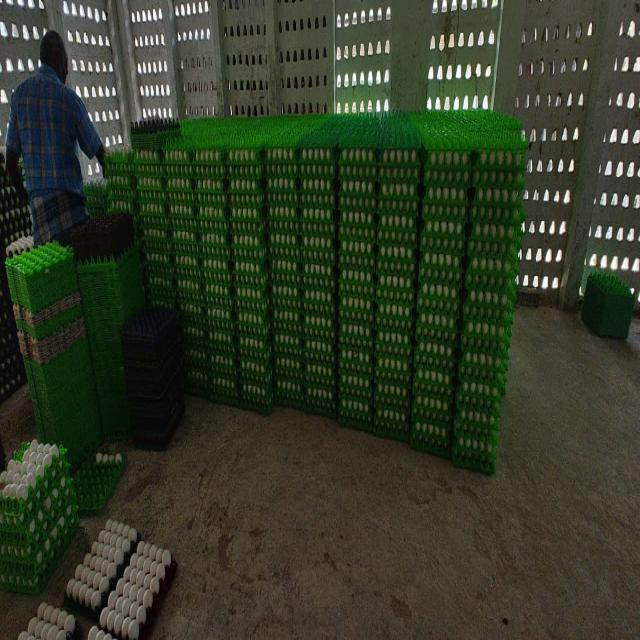egg_tray: (453, 172, 524, 472), (412, 152, 470, 454), (374, 150, 420, 440), (461, 172, 524, 361), (0, 440, 77, 591), (230, 150, 272, 411), (339, 148, 376, 429), (300, 148, 336, 416), (266, 148, 302, 405), (418, 152, 470, 318), (454, 319, 510, 472), (123, 309, 183, 445), (100, 541, 176, 639), (172, 205, 208, 394), (66, 520, 138, 614), (465, 205, 524, 319), (416, 205, 464, 343), (338, 253, 375, 426), (374, 274, 412, 439), (134, 151, 174, 301), (270, 218, 302, 404), (468, 166, 524, 267), (338, 202, 376, 346), (418, 191, 466, 304), (230, 159, 267, 304), (377, 150, 420, 274), (412, 330, 454, 455), (126, 336, 181, 430), (412, 341, 455, 455), (6, 242, 76, 311), (122, 308, 178, 394), (202, 207, 234, 357), (338, 194, 376, 317), (0, 441, 64, 514), (456, 352, 508, 440), (468, 206, 523, 289), (414, 277, 460, 373), (272, 260, 302, 405), (414, 329, 456, 429), (374, 330, 412, 440), (466, 222, 521, 295), (300, 207, 336, 316), (166, 177, 201, 289), (200, 206, 233, 321), (463, 256, 516, 327), (301, 210, 336, 317), (166, 179, 201, 283), (420, 205, 466, 283), (300, 194, 336, 291), (200, 221, 234, 321), (0, 272, 26, 402), (582, 271, 634, 336), (414, 338, 456, 418), (202, 250, 234, 355), (376, 247, 415, 332), (338, 320, 374, 412), (202, 223, 234, 324), (338, 252, 376, 336), (466, 235, 520, 294), (75, 452, 126, 512), (140, 201, 174, 289), (378, 115, 421, 184), (378, 198, 418, 272), (338, 345, 373, 429), (338, 194, 376, 271), (302, 276, 335, 363), (474, 148, 526, 203), (338, 345, 372, 429), (338, 196, 376, 271), (140, 192, 173, 278), (176, 256, 208, 343), (272, 261, 301, 356), (304, 330, 336, 416), (230, 201, 267, 275), (338, 256, 376, 328), (142, 224, 174, 306), (198, 203, 230, 284), (238, 338, 272, 413), (422, 151, 472, 202), (236, 258, 270, 333), (423, 152, 470, 206), (300, 194, 335, 264), (268, 205, 299, 284), (267, 191, 299, 266), (198, 206, 230, 280), (0, 169, 31, 245), (180, 317, 210, 395), (18, 603, 82, 639), (195, 178, 228, 247), (301, 252, 336, 317), (299, 148, 336, 209), (106, 175, 140, 239), (236, 258, 269, 323), (167, 192, 200, 256), (302, 356, 336, 417), (376, 328, 412, 383), (138, 189, 171, 249), (424, 145, 474, 184), (228, 152, 264, 206), (174, 233, 201, 302), (338, 196, 376, 245), (206, 291, 236, 353), (338, 148, 378, 194), (194, 167, 228, 220), (266, 178, 298, 233), (266, 148, 298, 202), (0, 331, 24, 402), (0, 335, 24, 402), (339, 129, 378, 170), (228, 166, 264, 209), (208, 356, 239, 405), (274, 351, 302, 405), (0, 329, 22, 397), (269, 206, 298, 257), (190, 150, 226, 191), (379, 148, 420, 183), (274, 356, 302, 407), (144, 258, 174, 305), (146, 257, 174, 306), (136, 187, 168, 229), (137, 185, 168, 228), (106, 150, 136, 192), (105, 147, 134, 188), (378, 183, 418, 212), (300, 146, 336, 177), (135, 151, 166, 187), (106, 191, 138, 225), (135, 151, 166, 186), (165, 161, 192, 200), (227, 148, 264, 176), (210, 347, 236, 385), (266, 147, 299, 176), (146, 274, 174, 307), (84, 178, 108, 216), (210, 362, 235, 395), (0, 274, 13, 321), (6, 235, 33, 257), (0, 272, 12, 321), (0, 161, 14, 194), (0, 162, 12, 195), (88, 626, 115, 639), (214, 271, 232, 288), (475, 224, 496, 235), (168, 151, 188, 161), (120, 169, 134, 181), (0, 199, 12, 211), (0, 304, 11, 317), (178, 282, 193, 291), (274, 268, 290, 275), (274, 331, 286, 339), (486, 330, 497, 338), (0, 451, 5, 468), (498, 383, 504, 396), (0, 200, 7, 211), (448, 307, 457, 315), (326, 264, 334, 273), (0, 450, 4, 467), (0, 453, 4, 467), (260, 336, 270, 341), (282, 290, 290, 296), (496, 365, 502, 372), (416, 375, 422, 382), (327, 318, 334, 324), (177, 304, 182, 312), (506, 299, 511, 307), (432, 214, 441, 218), (0, 487, 3, 498), (490, 400, 494, 408), (184, 264, 192, 268), (353, 174, 361, 178), (485, 183, 491, 188), (238, 152, 244, 157), (232, 217, 242, 220), (256, 195, 262, 199), (282, 243, 288, 247), (244, 152, 250, 156), (287, 335, 294, 338), (293, 265, 296, 272), (443, 285, 448, 289), (508, 267, 512, 272), (0, 488, 2, 498), (344, 331, 348, 336), (305, 316, 309, 321), (183, 327, 188, 331), (154, 247, 160, 250), (366, 280, 372, 283), (365, 280, 371, 283), (428, 312, 432, 316), (184, 307, 188, 311), (234, 152, 238, 156), (474, 311, 478, 315), (251, 152, 256, 155), (516, 220, 518, 227), (310, 318, 324, 319), (442, 286, 445, 290), (226, 291, 230, 294), (456, 177, 458, 183), (186, 271, 190, 274), (232, 390, 236, 393), (492, 179, 494, 185), (6, 291, 8, 297), (212, 388, 216, 391), (468, 307, 472, 310), (354, 335, 357, 339), (330, 300, 332, 305), (270, 236, 272, 241), (479, 332, 484, 334), (420, 317, 425, 319), (304, 273, 314, 274), (41, 493, 44, 496), (450, 330, 454, 332), (446, 285, 448, 289), (212, 284, 214, 288), (353, 280, 357, 282), (500, 140, 507, 141), (162, 249, 168, 250), (301, 195, 304, 197), (428, 428, 430, 431), (426, 212, 427, 218), (213, 251, 216, 253), (518, 230, 520, 233), (224, 355, 230, 356), (454, 295, 458, 296), (281, 221, 285, 222), (494, 410, 498, 411), (478, 402, 482, 403), (447, 418, 448, 422), (426, 388, 430, 389), (202, 313, 203, 317), (393, 350, 395, 352), (522, 215, 523, 219), (294, 282, 298, 283), (496, 263, 498, 265), (513, 297, 514, 300), (390, 236, 392, 237), (370, 243, 372, 244), (162, 238, 164, 239), (227, 282, 228, 284), (451, 143, 452, 145), (449, 141, 451, 142), (254, 266, 256, 267), (171, 361, 173, 362), (107, 168, 108, 170), (368, 174, 370, 175), (8, 255, 10, 256), (284, 279, 286, 280), (504, 268, 506, 269), (360, 277, 361, 278), (348, 246, 348, 250), (416, 434, 417, 434), (296, 241, 296, 244), (494, 180, 494, 180), (447, 414, 448, 414), (445, 286, 445, 287), (224, 280, 226, 280), (306, 231, 306, 232), (177, 263, 177, 265), (201, 209, 201, 214), (299, 351, 299, 352), (187, 290, 189, 290), (492, 314, 492, 316), (499, 270, 499, 272), (183, 347, 183, 348)
